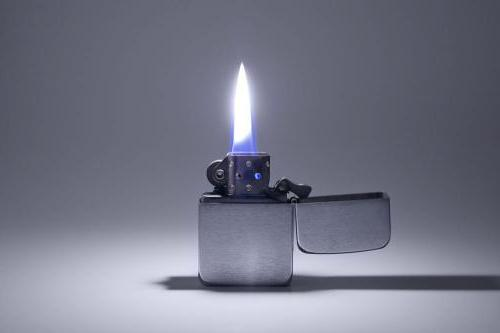fire: (222, 44, 269, 163)
